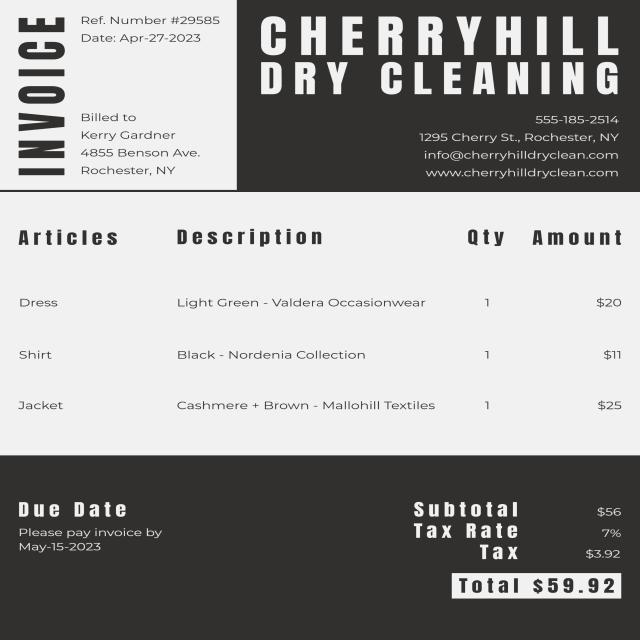paragraph: (248, 9, 624, 99), (405, 493, 634, 611), (416, 110, 624, 183), (10, 493, 172, 560), (12, 10, 71, 182), (77, 108, 203, 178), (76, 13, 226, 47)
table: (4, 207, 634, 440)
